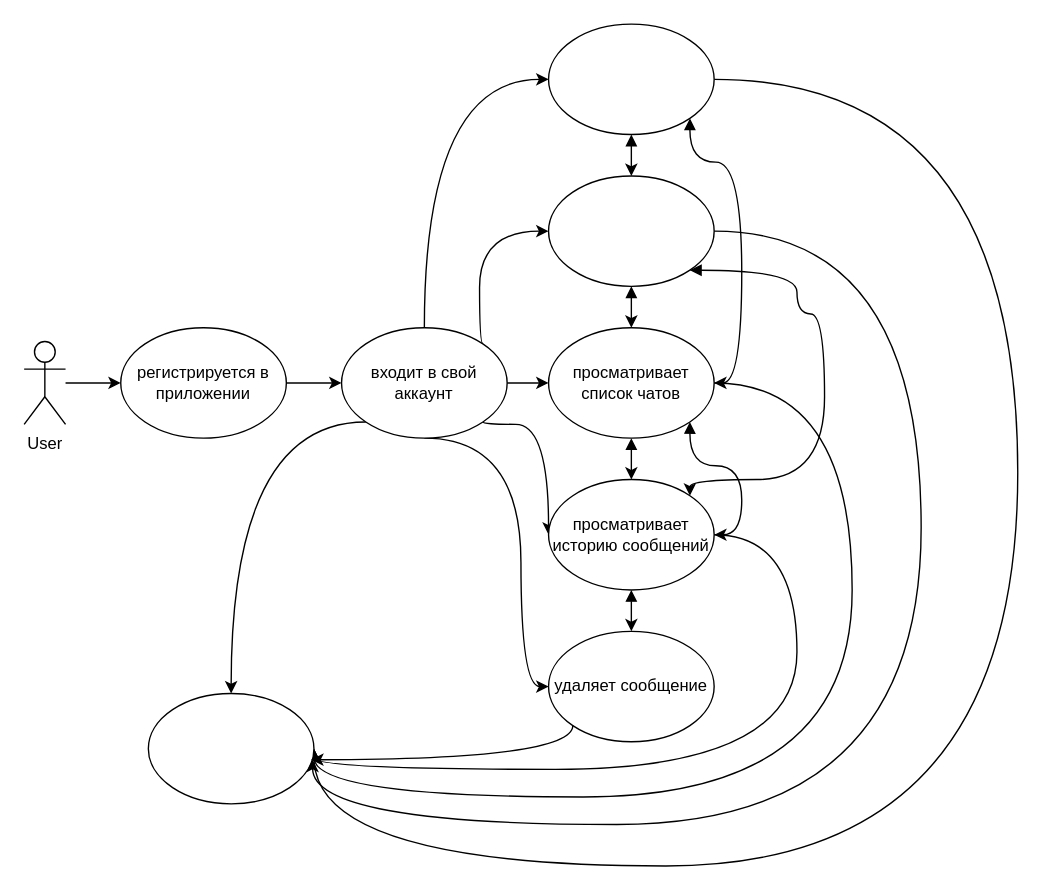
Some shapes in this 1042 by 890 pixel diagram are drawn without their labels. The centre of each missing label's shape, as x and y in pixels:
"выходит из аккаунта" goes at point (230, 748).
"отправляет сообщение" goes at point (630, 230).
"создает новый чат" goes at point (630, 79).
